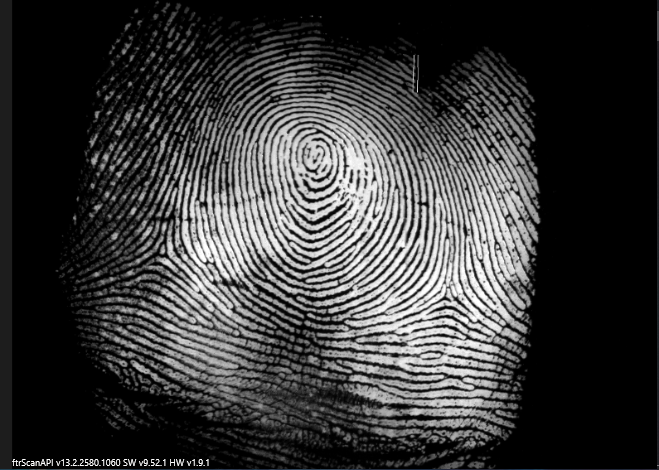deltas: (127, 219, 186, 285), (420, 267, 472, 326)
nucleo: (284, 119, 341, 188)
